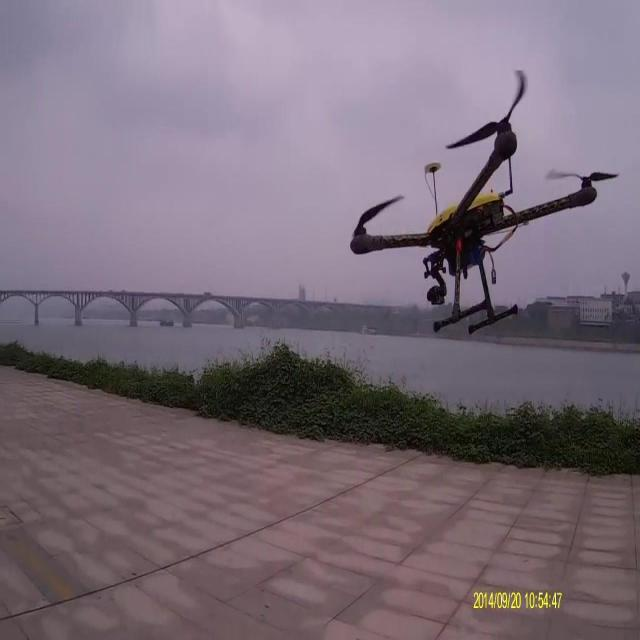drone: (348, 65, 621, 333)
